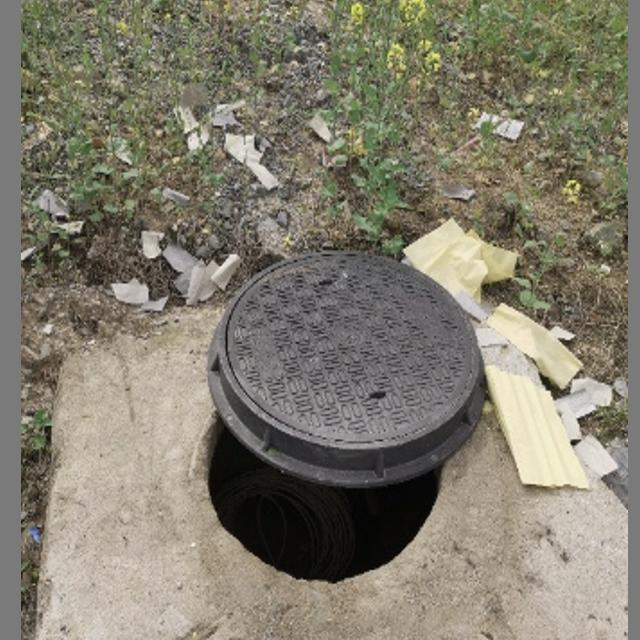uncovered: (201, 248, 483, 579)
